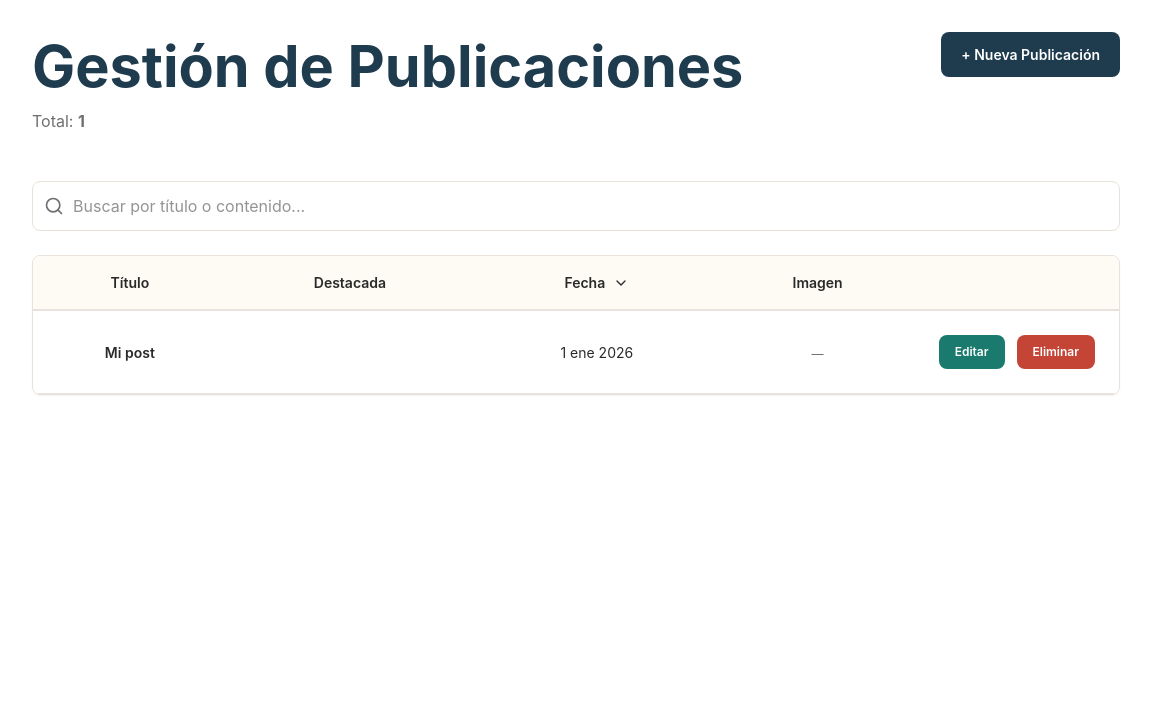
Test: delete modal › removes post from list on successful delete
Click the button "Eliminar". click: (1056, 352)
box: 1016,335 -> 1095,369
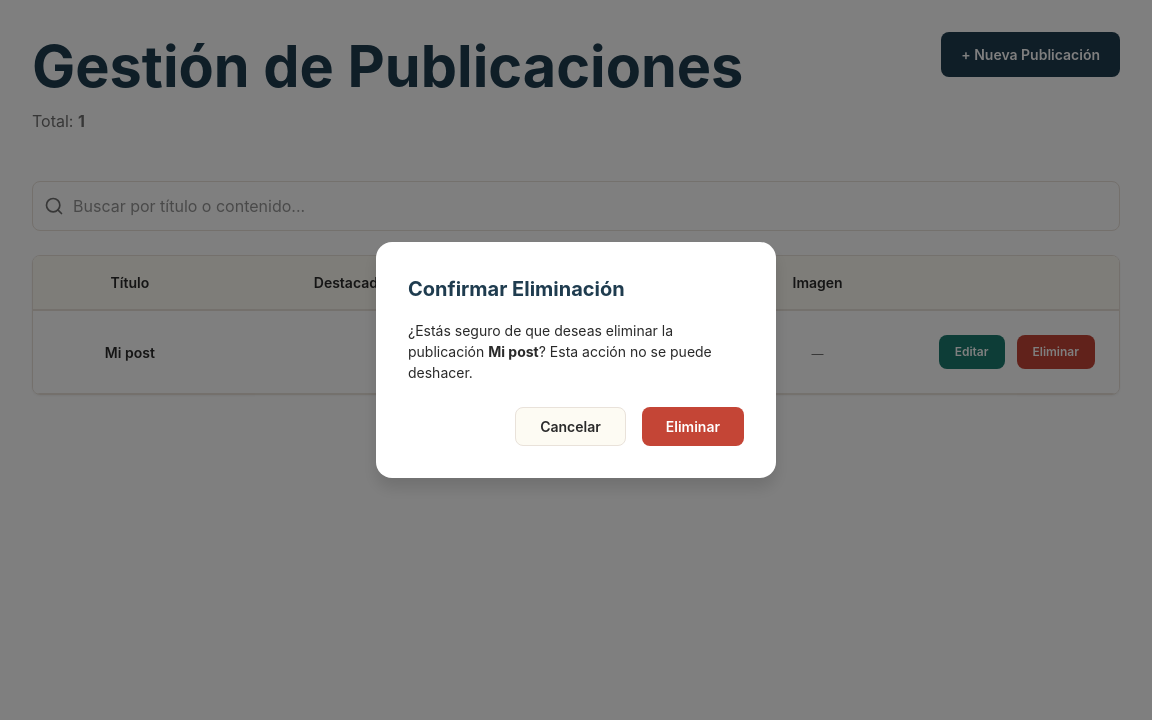
Now the heading "Confirmar Eliminación" is shown, box 408,277 -> 625,301
Click the button "Eliminar". click: (693, 426)
box: 642,407 -> 744,446
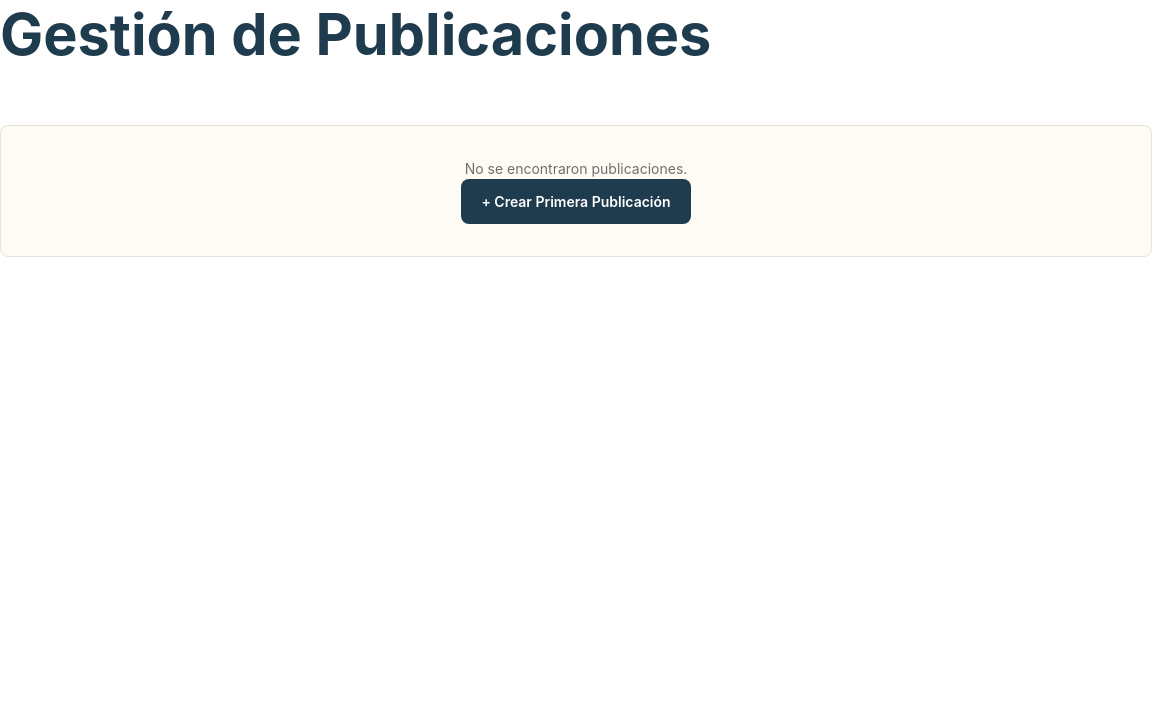
Now the text "Mi post" is gone
